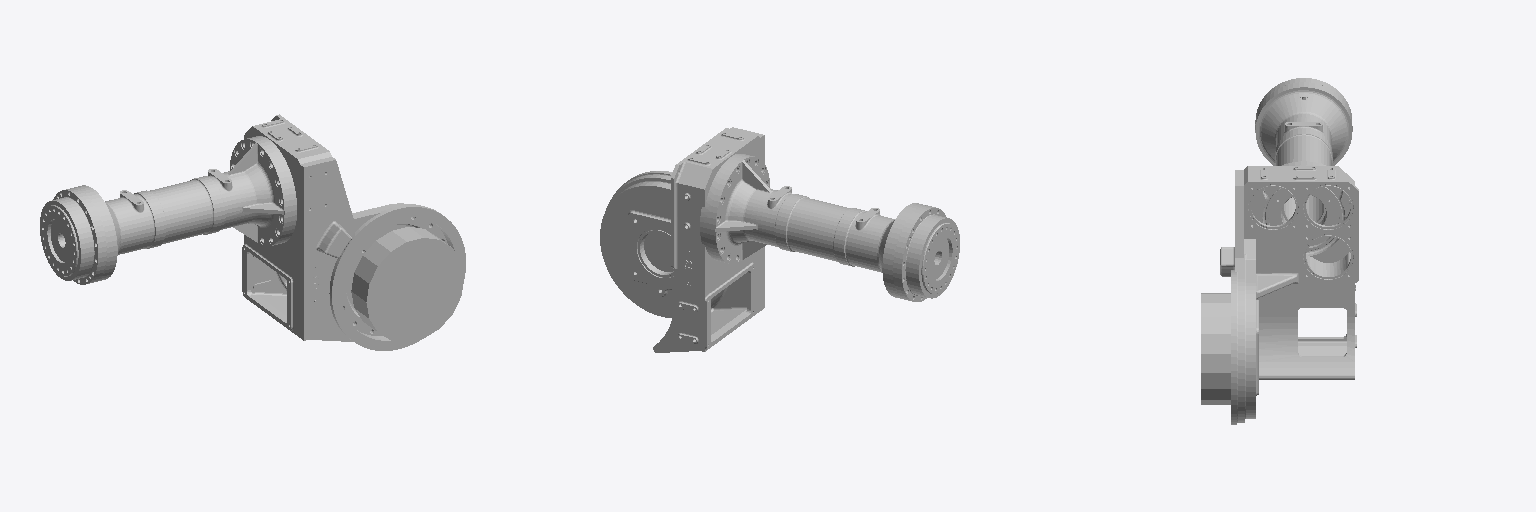
The model's file is AXIS_3.obj.
The picture shows the model from 3 angles: view 1: azimuth 30°, elevation 25°; view 2: azimuth 150°, elevation 25°; view 3: azimuth 270°, elevation 25°; orthographic projection.
Visible parts, largest first — view 1: default.001; view 2: default.001; view 3: default.001.
Part boxes in pixels (x1,y1,x2,y2): default.001: (40, 114, 465, 350); default.001: (600, 127, 959, 352); default.001: (1201, 78, 1358, 424).
Bounding box in the file's own units: 1.05 × 0.563 × 0.3875.